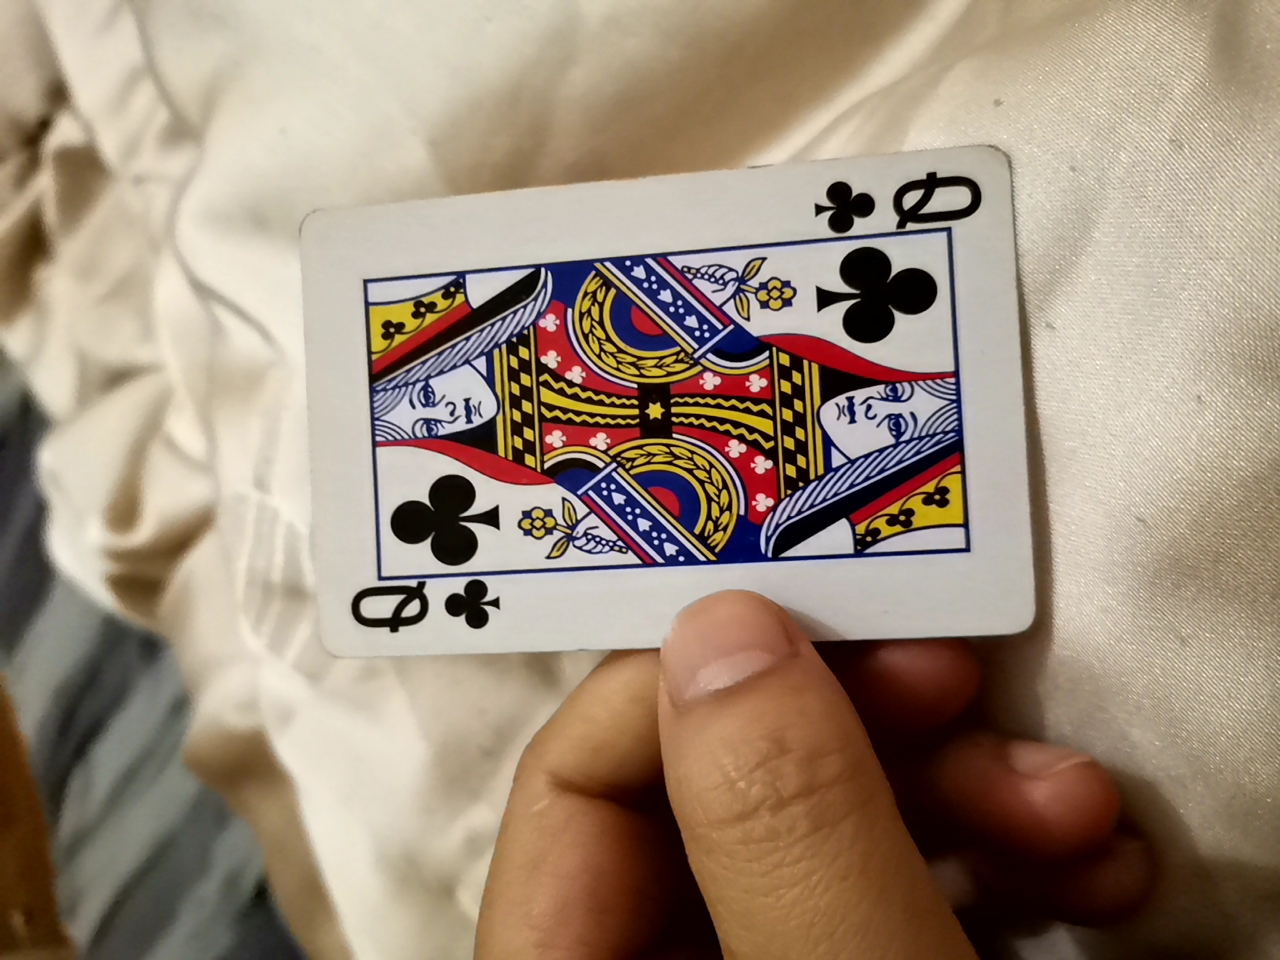mh q: (305, 123, 1021, 685)
